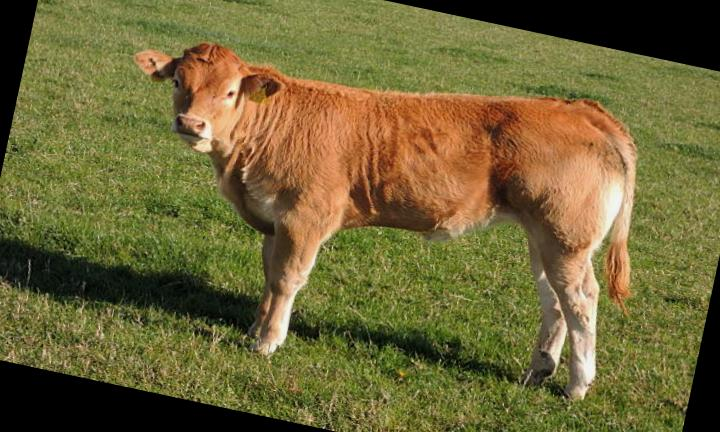Charolais: (137, 44, 637, 397)
